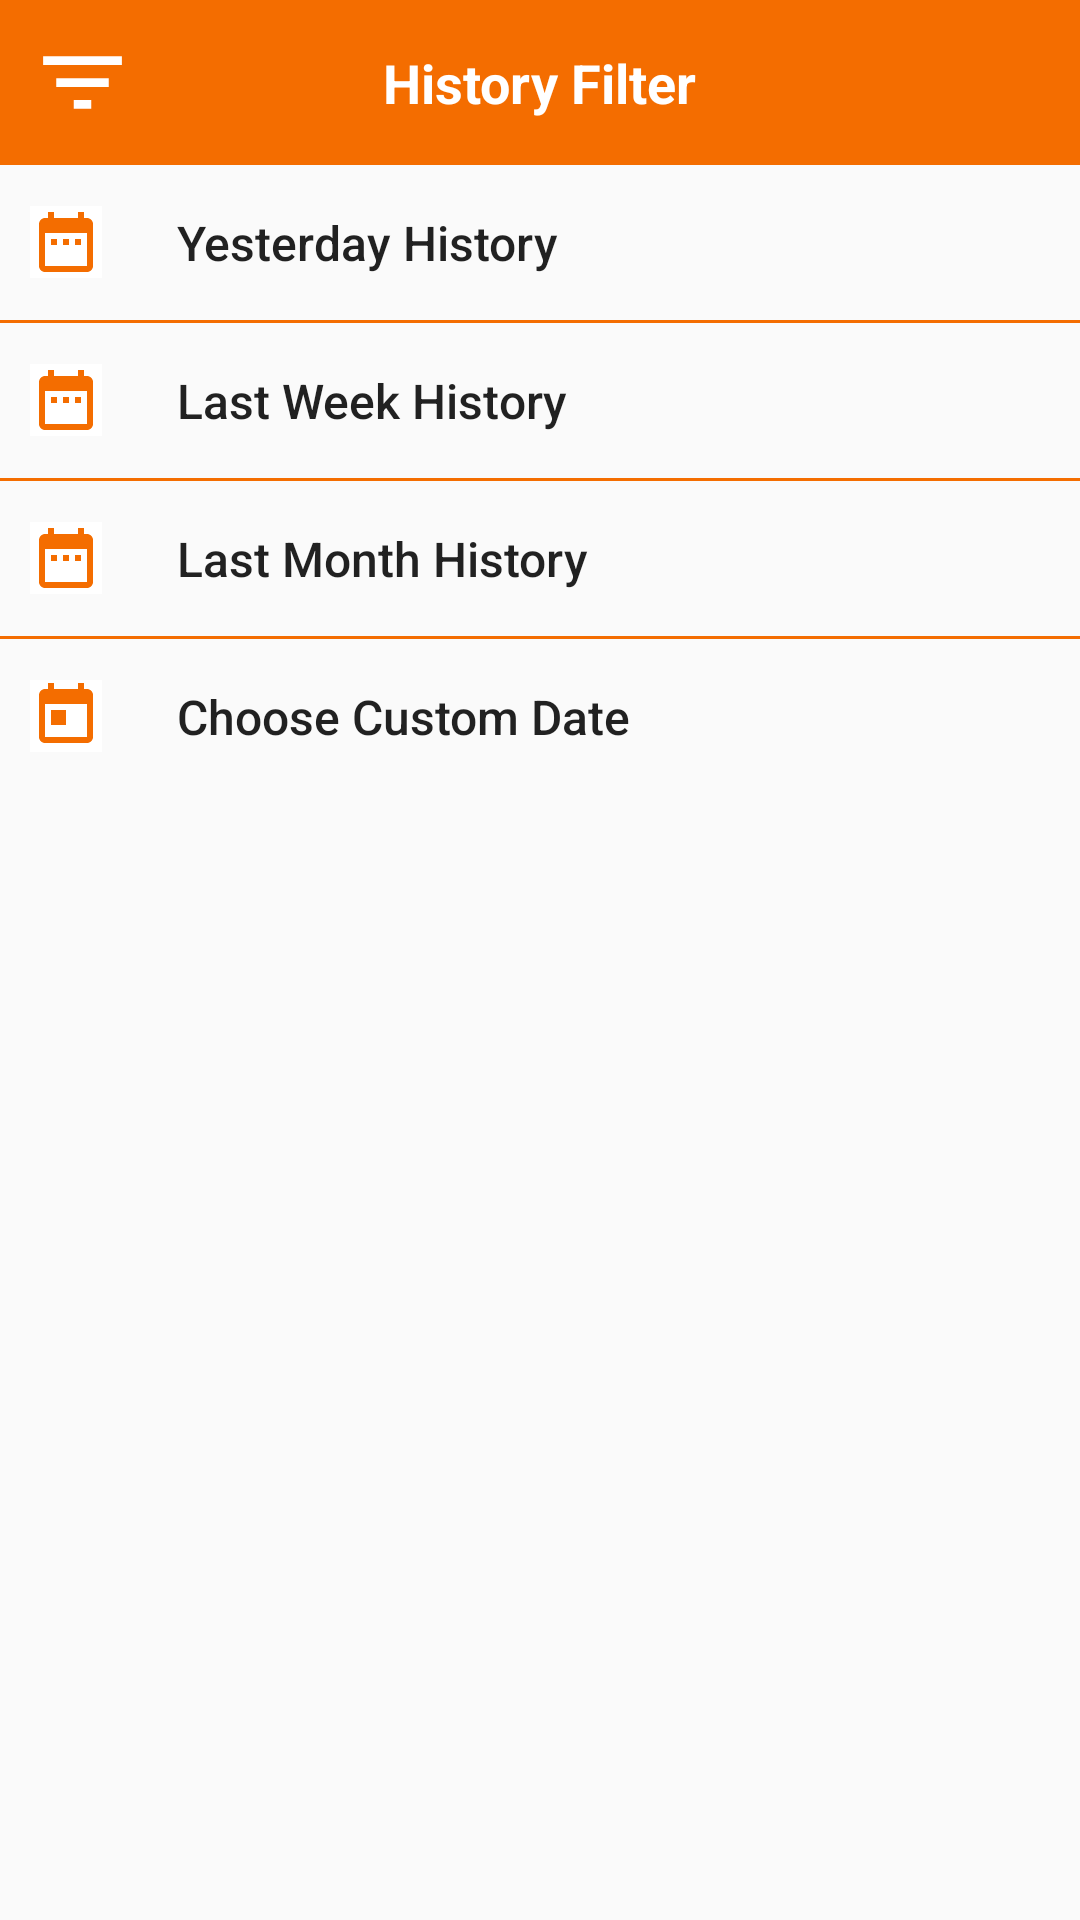

Locate icon controls on the screen. Image size 1080 x 1920, boxes as [x1,y1,x2,y2].
date calander: [39,212,93,272], [39,370,93,430], [39,528,93,588]
filter list: [43,56,122,109]
today calander: [39,683,93,743]
